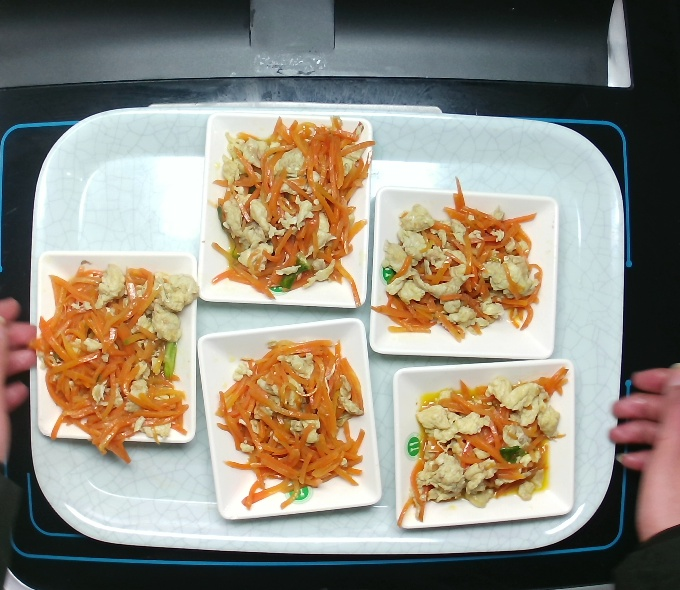wcq-HuLuoBoChaoDan: (32, 256, 203, 463), (209, 110, 379, 313), (370, 174, 545, 347), (395, 362, 571, 530), (213, 336, 369, 516)
